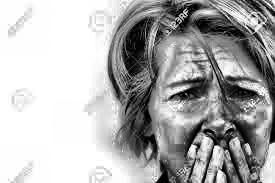sad: (131, 0, 275, 183)
